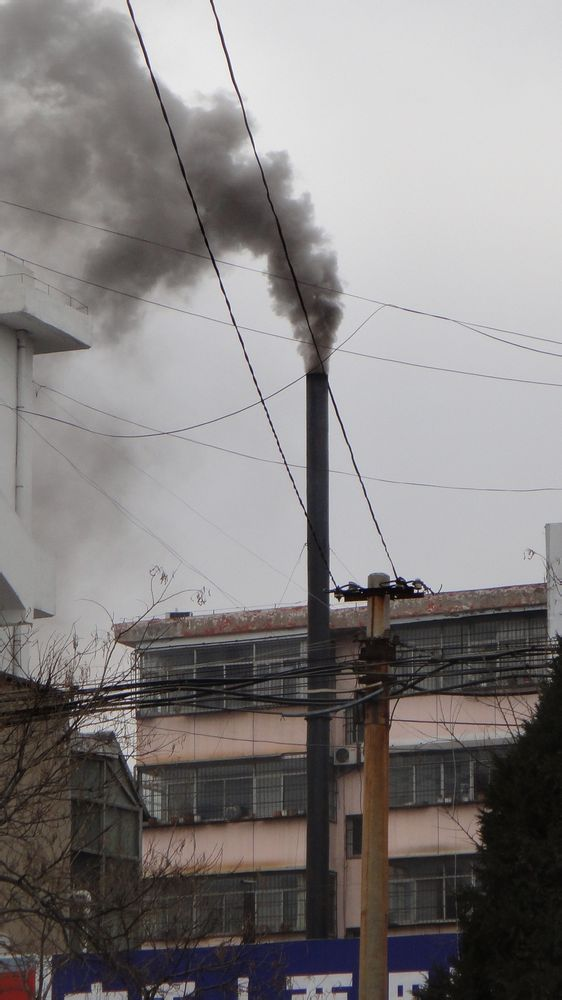dust: (101, 87, 355, 385)
